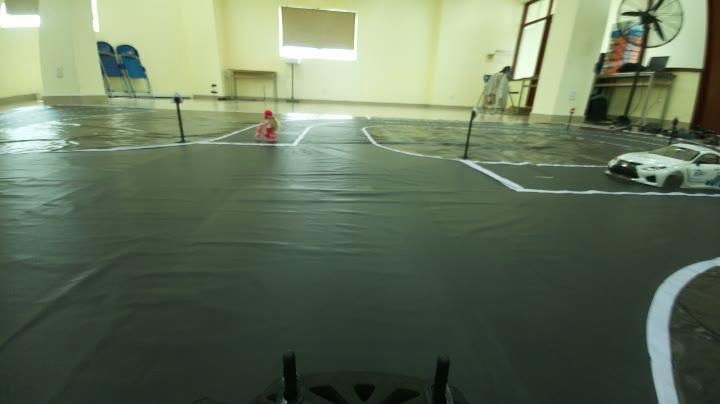car: (618, 132, 718, 192)
